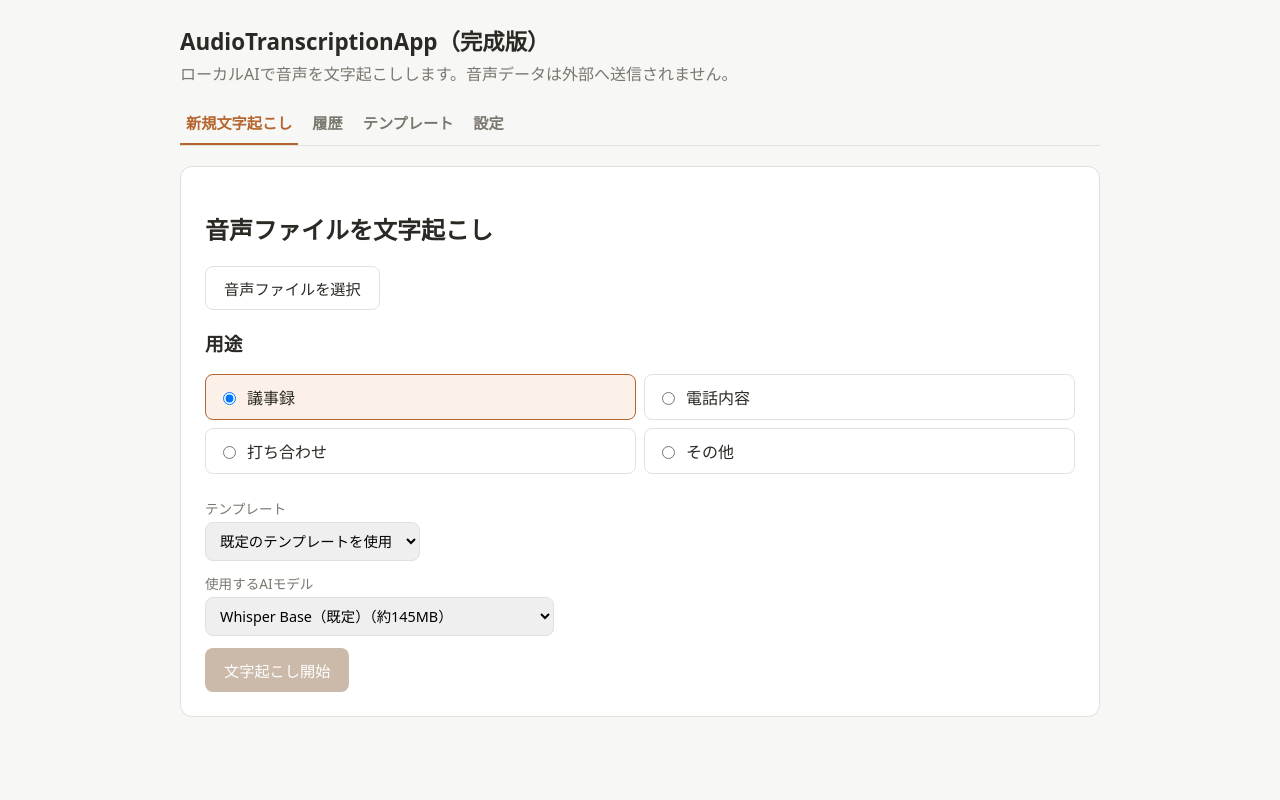
Scenario: App（完成版 画面遷移） › 履歴タブ: 検索結果一覧が表示され、クリックすると詳細画面に遷移する
The image size is (1280, 800).
Click the button with test id "nav-library".
click(328, 123)  # box 306,101 -> 349,145
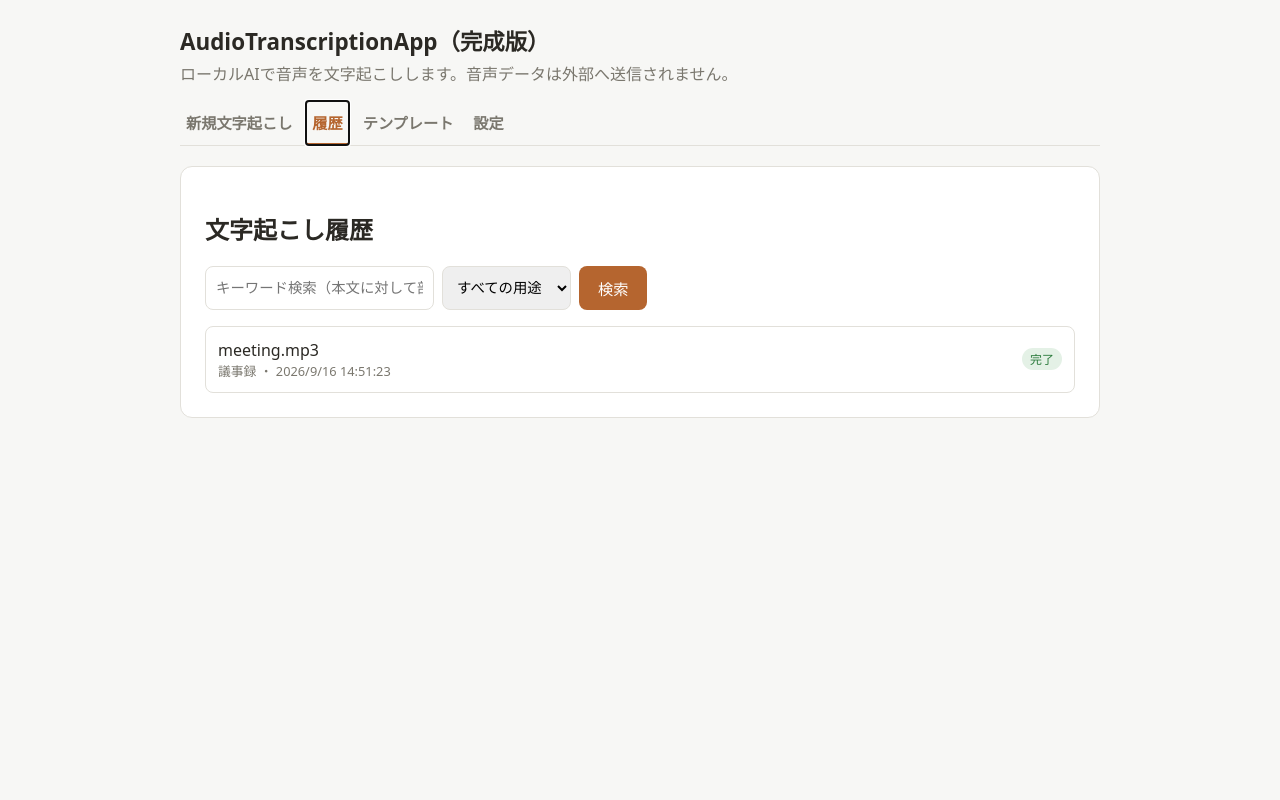
Expected: the element with test id "job-list-item" shows "meeting.mp3", 218,339 -> 319,361
Click the element with test id "job-list-item".
click(640, 359)  # box 205,326 -> 1075,393
(page scrolled)
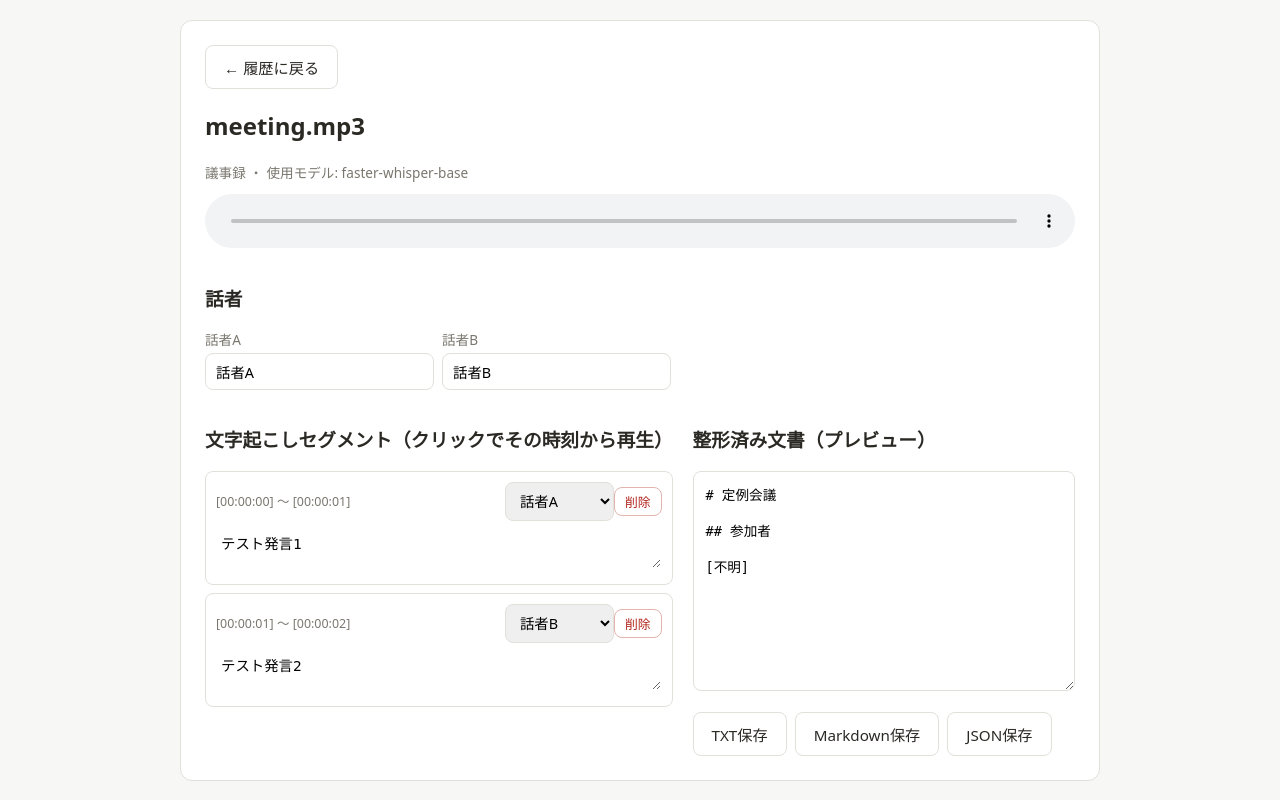
Expected: the element with test id "job-detail-screen" is shown
